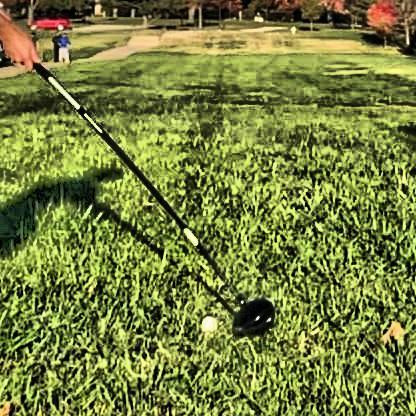golfball: (198, 311, 215, 328)
